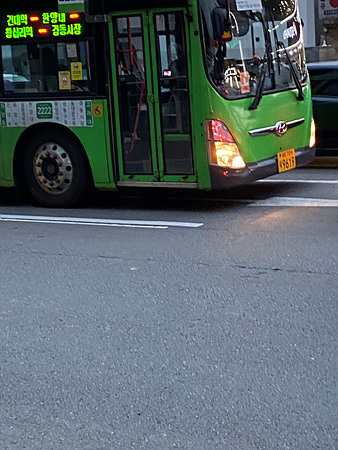entrance: (102, 11, 205, 188)
